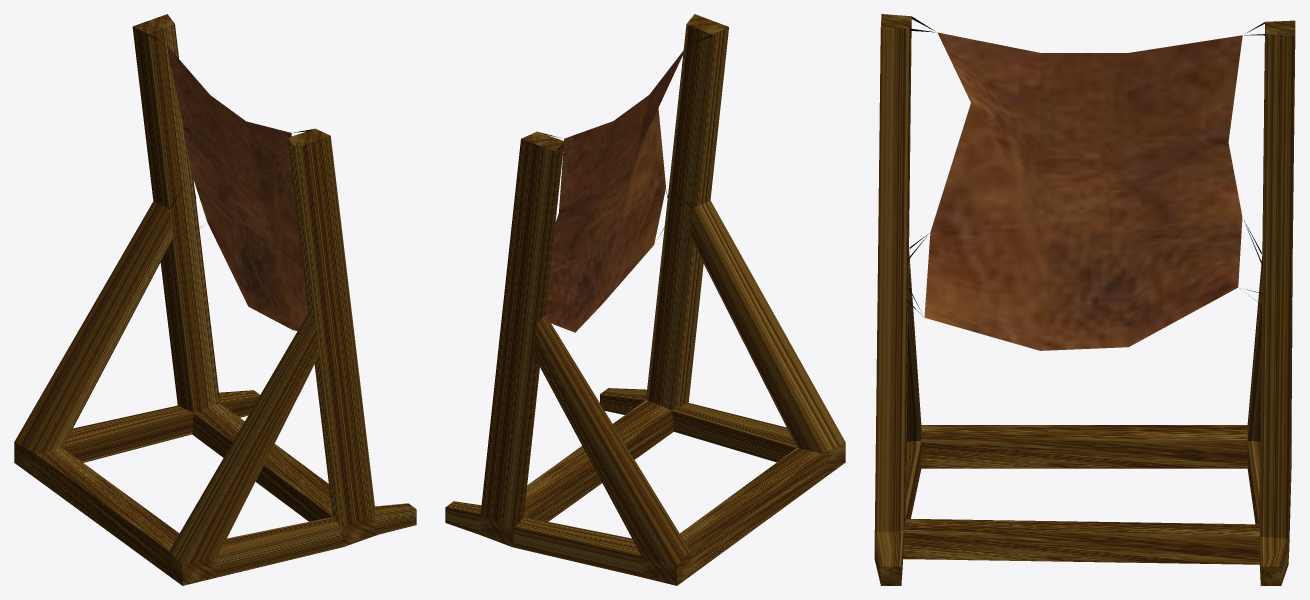
Rendered from Tanning Rack.glb.
3 views of the same model, side by side, from view 1: azimuth 30°, elevation 25°; view 2: azimuth 150°, elevation 25°; view 3: azimuth 270°, elevation 25° (orthographic). The views are drawn at different scales.
Visible parts, largest first — view 1: Cube.001; view 2: Cube.001; view 3: Cube.001.
Part boxes in pixels (bbox=[...]): Cube.001: bbox=[14, 14, 416, 585]; Cube.001: bbox=[445, 14, 845, 585]; Cube.001: bbox=[874, 14, 1295, 585].
Bounding box in the file's own units: 0.6281 × 1.06 × 0.7905.
3 materials, 2 textured.
